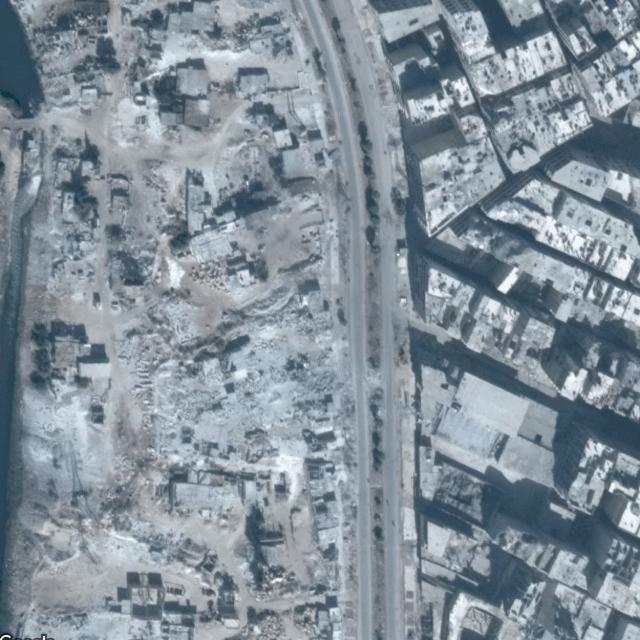damaged_building: (13, 3, 355, 590), (231, 532, 307, 600)
